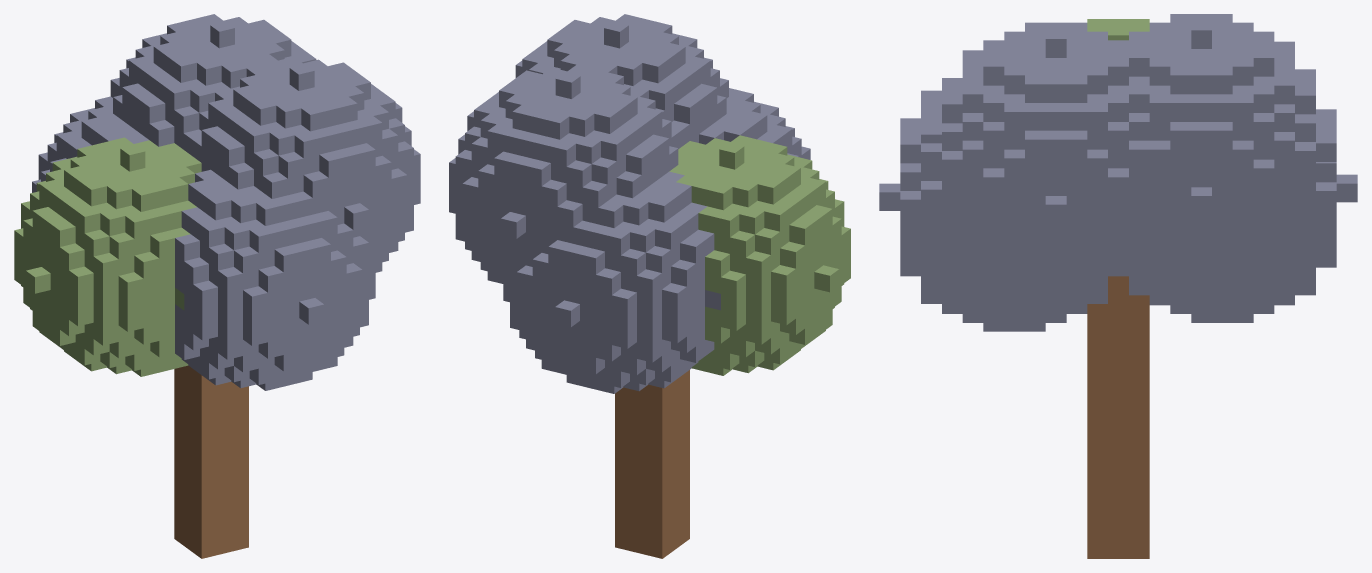
File: mathematics-15.glb
3 views of the same model, side by side, from view 1: azimuth 30°, elevation 25°; view 2: azimuth 150°, elevation 25°; view 3: azimuth 270°, elevation 25° (orthographic). The views are drawn at different scales.
Visible parts, largest first — view 1: Fractal tree; view 2: Fractal tree; view 3: Fractal tree.
Boxes of the visible parts, x1,y1,x2,y2 form: Fractal tree: [14, 14, 420, 558]; Fractal tree: [449, 14, 850, 558]; Fractal tree: [879, 14, 1357, 558].
Size of the model in its own units: 1.76 by 2.32 by 1.84.
